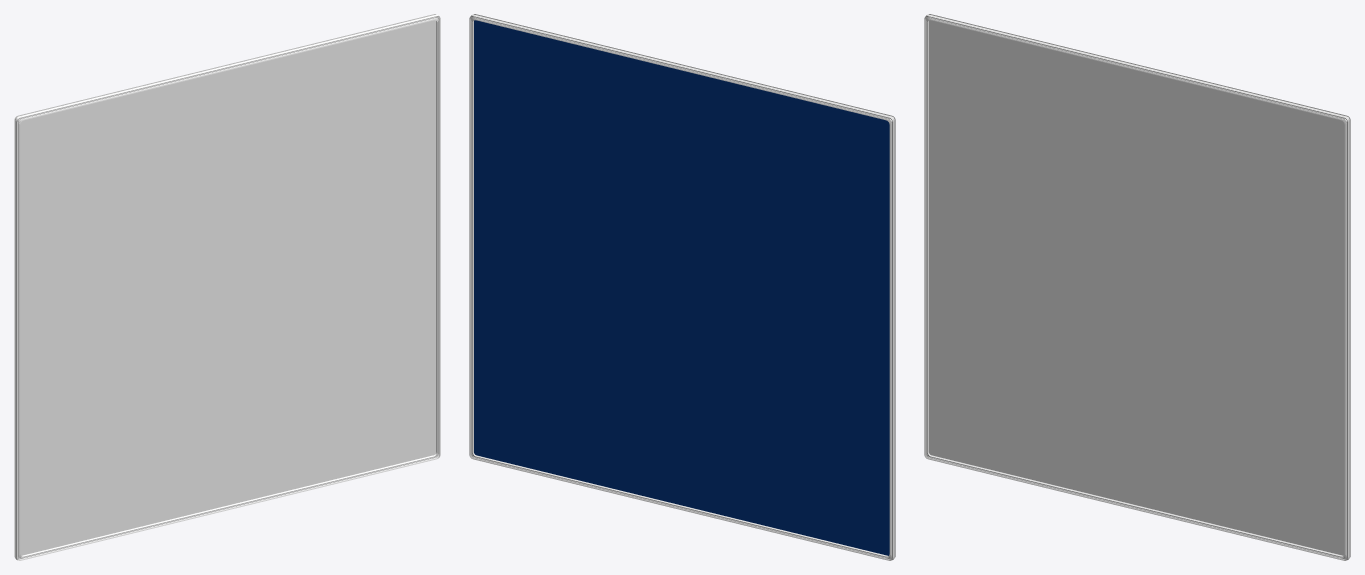
The model's file is common-background-3.glb.
3 renders of one model, left to right at view 1: azimuth 30°, elevation 25°; view 2: azimuth 150°, elevation 25°; view 3: azimuth 330°, elevation 25°, orthographic.
Parts seen in each view (by area): view 1: Plane.001, Torus; view 2: Plane, Torus; view 3: Plane.001, Torus.
Boxes of the visible parts, <box> form: Plane.001: <box>20,20,435,555</box>; Torus: <box>14,14,440,560</box>; Plane: <box>474,20,889,555</box>; Torus: <box>469,14,895,560</box>; Plane.001: <box>929,20,1344,555</box>; Torus: <box>924,14,1350,560</box>.
Size of the model in its own units: 3.05 by 3.05 by 0.044.
